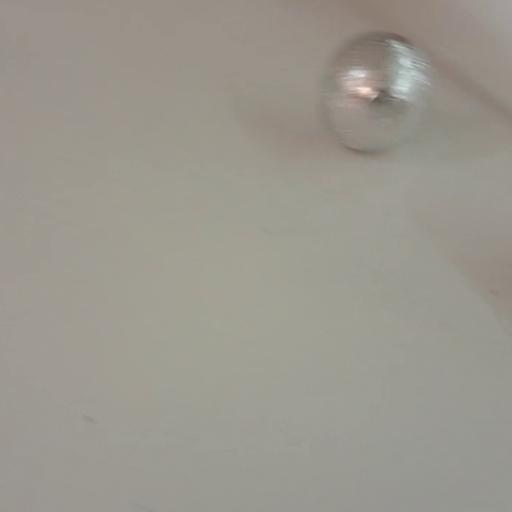alive: (316, 29, 438, 154)
